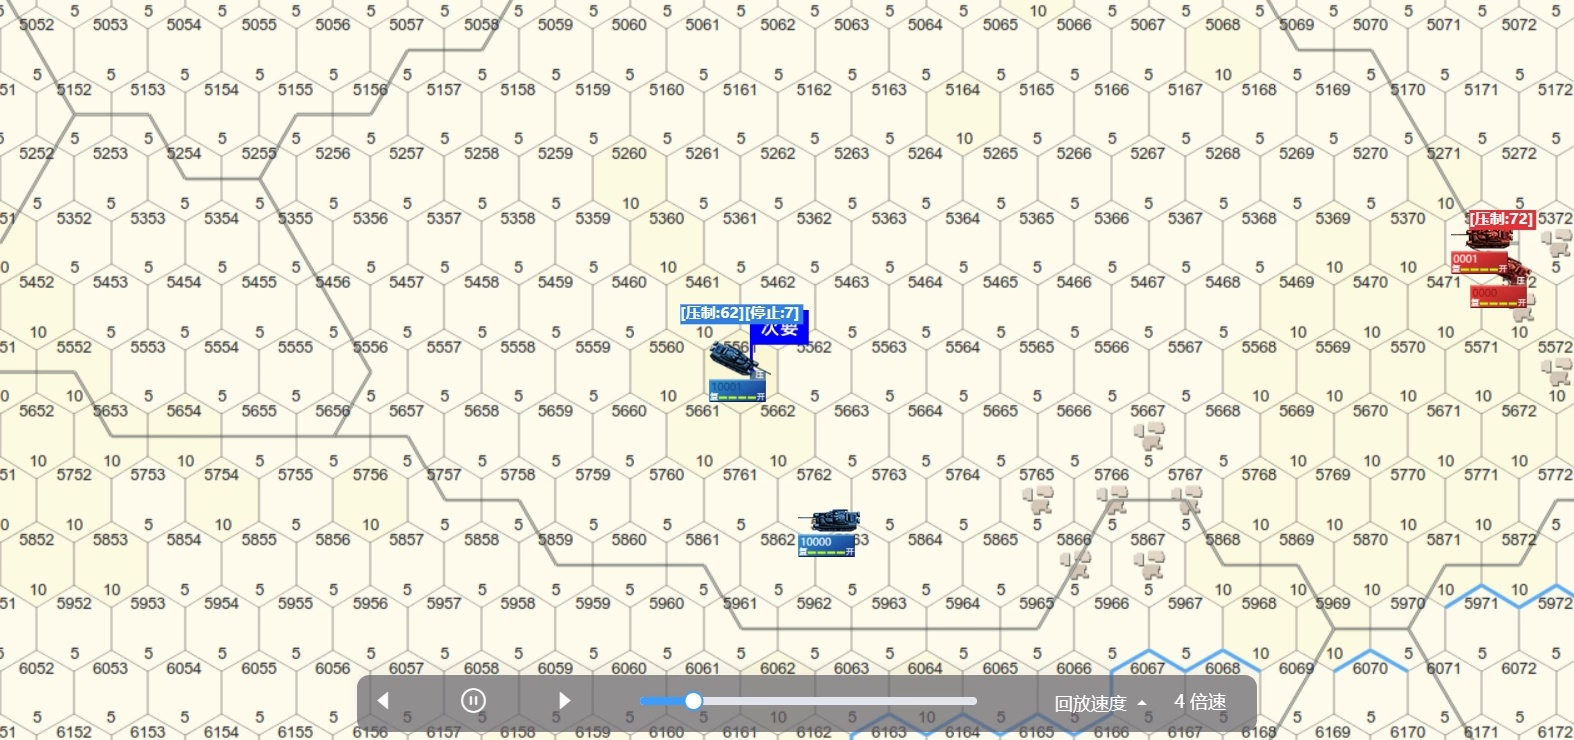blue_tank: (705, 344, 768, 392), (805, 513, 857, 556)
red_tank: (1458, 221, 1517, 280), (1480, 268, 1526, 316)
